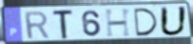6: (81, 9, 103, 38)
D: (132, 7, 160, 37)
H: (104, 8, 133, 39)
R: (22, 10, 51, 41)
T: (52, 9, 75, 41)
U: (159, 6, 188, 37)
